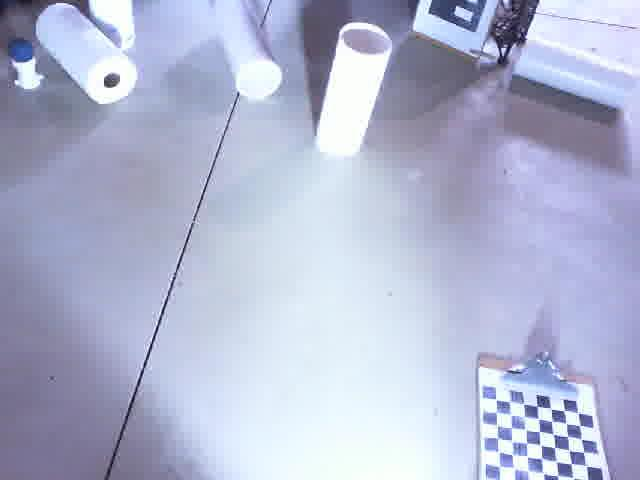coral: (310, 21, 394, 162), (511, 36, 640, 115), (208, 0, 289, 119)
